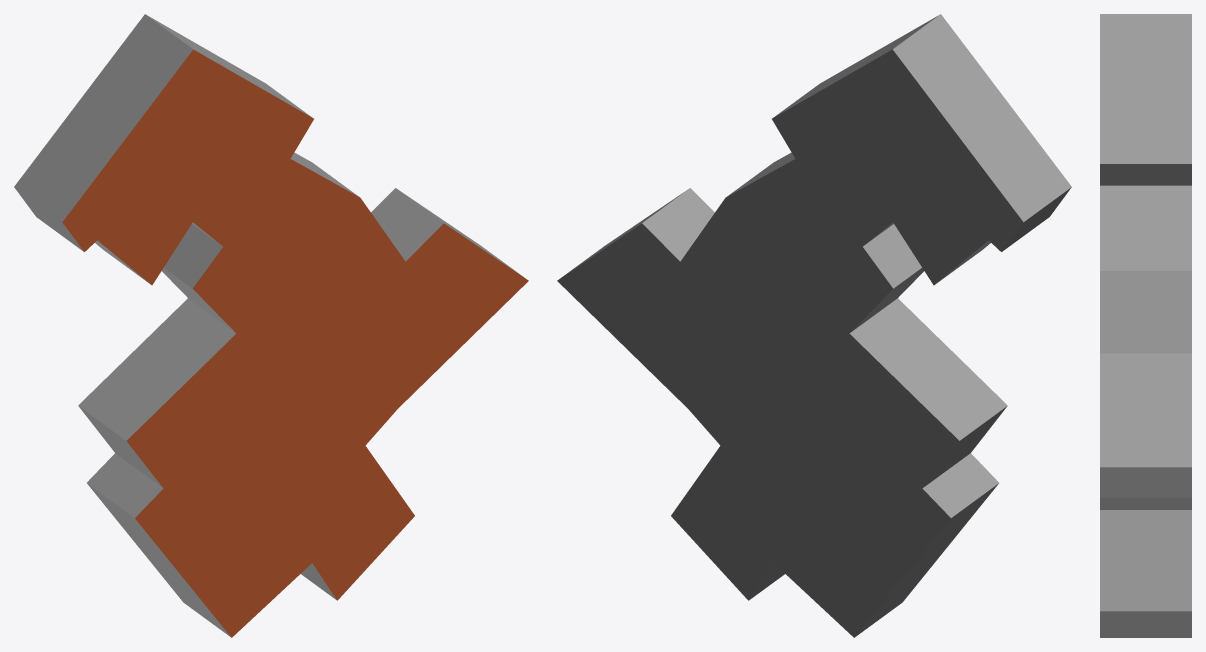
Rendered from construction_7106_assumed_A_Casa_h6m.obj.
3 renders of one model, left to right at view 1: azimuth 30°, elevation 25°; view 2: azimuth 150°, elevation 25°; view 3: azimuth 270°, elevation 25°, orthographic. The views are drawn at different scales.
Visible parts, largest first — view 1: construction_7106_assumed_A_Casa; view 2: construction_7106_assumed_A_Casa; view 3: construction_7106_assumed_A_Casa.
Boxes of the visible parts, x1=… form: construction_7106_assumed_A_Casa: x1=14, y1=14, x2=528, y2=637; construction_7106_assumed_A_Casa: x1=557, y1=14, x2=1071, y2=637; construction_7106_assumed_A_Casa: x1=1100, y1=14, x2=1191, y2=637.
Bounding box in the file's own units: 33.43 × 40.93 × 6.
